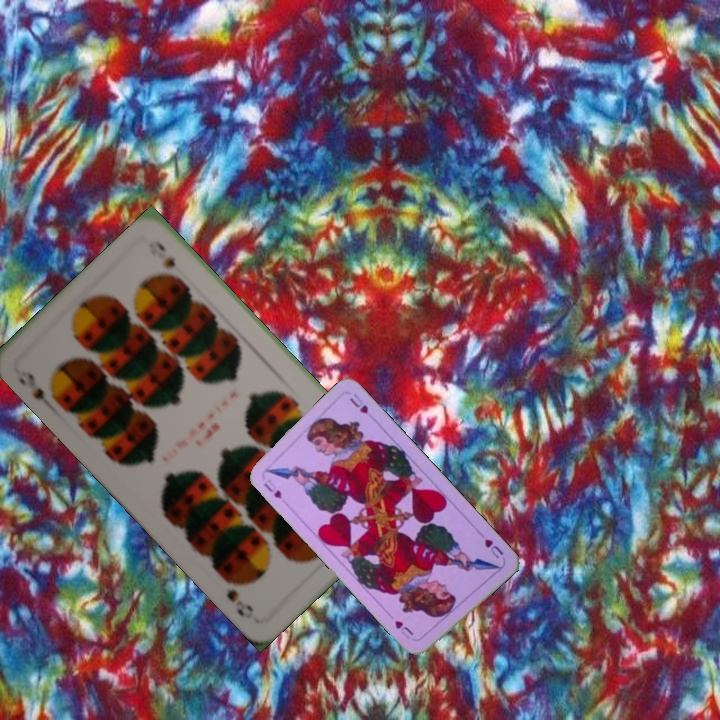HU: (480, 535, 506, 561), (260, 475, 284, 501)
S9: (15, 365, 57, 414)
